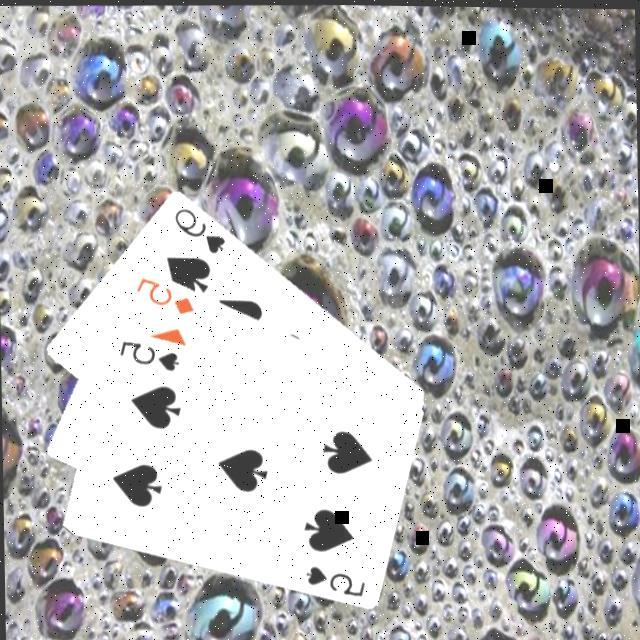5D: (134, 270, 198, 316)
5S: (116, 334, 184, 374), (302, 558, 370, 598)
9S: (172, 202, 230, 256)
